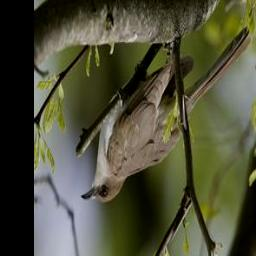Cuckoo: (83, 27, 253, 206)
